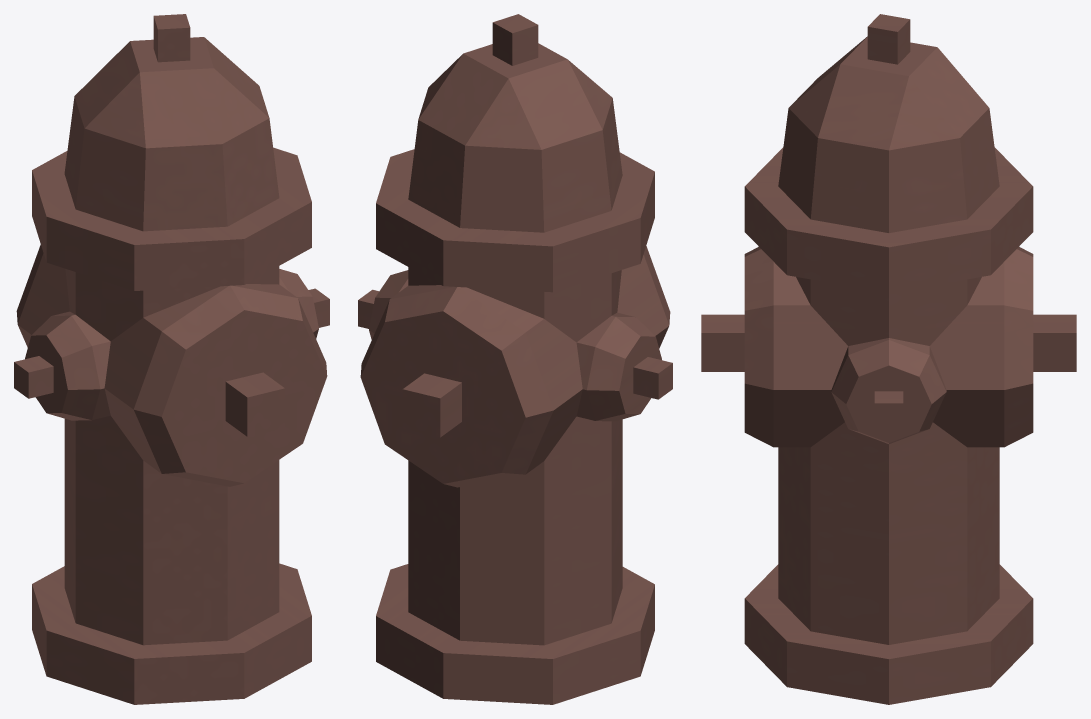
Rendered from firehydrant.fbx.
3 views of the same model, side by side, from view 1: azimuth 30°, elevation 25°; view 2: azimuth 150°, elevation 25°; view 3: azimuth 270°, elevation 25° (orthographic).
Parts seen in each view (by area): view 1: hydrant; view 2: hydrant; view 3: hydrant.
Boxes of the visible parts, x1,y1,x2,y2 form: hydrant: (14,14,329,704); hydrant: (358,14,672,704); hydrant: (701,14,1076,704).
Bounding box in the file's own units: 78.75 × 156 × 85.31.
